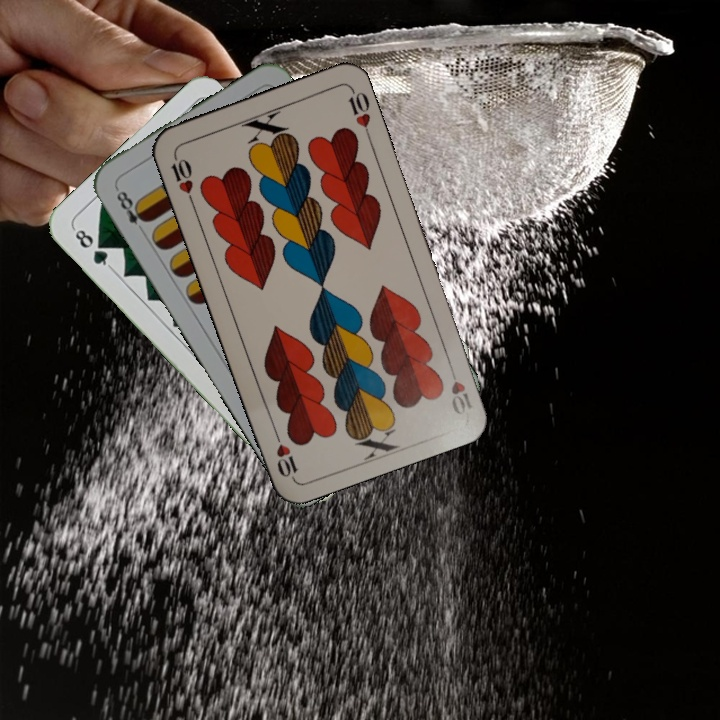E8: (111, 183, 152, 237)
G8: (69, 224, 115, 271)
H10: (444, 359, 475, 418), (167, 150, 197, 207)
